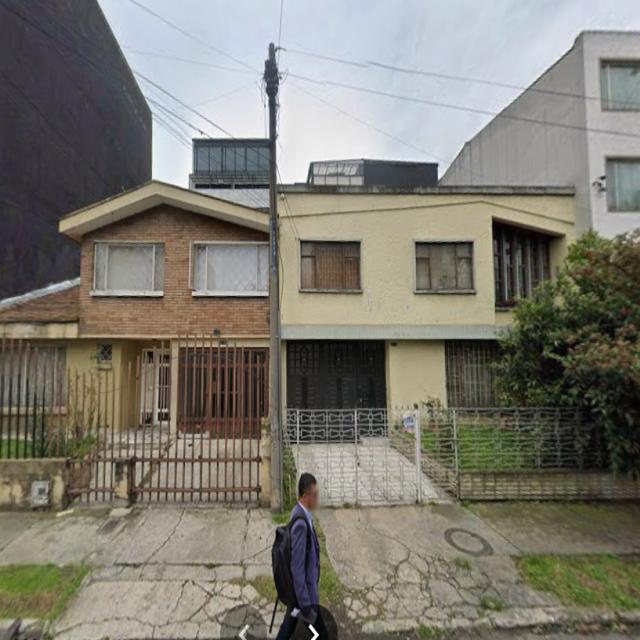fachada: (0, 181, 268, 428), (280, 185, 574, 409), (0, 0, 151, 298), (441, 32, 639, 236), (190, 138, 269, 209), (308, 160, 437, 188)
poste: (264, 43, 282, 512)
